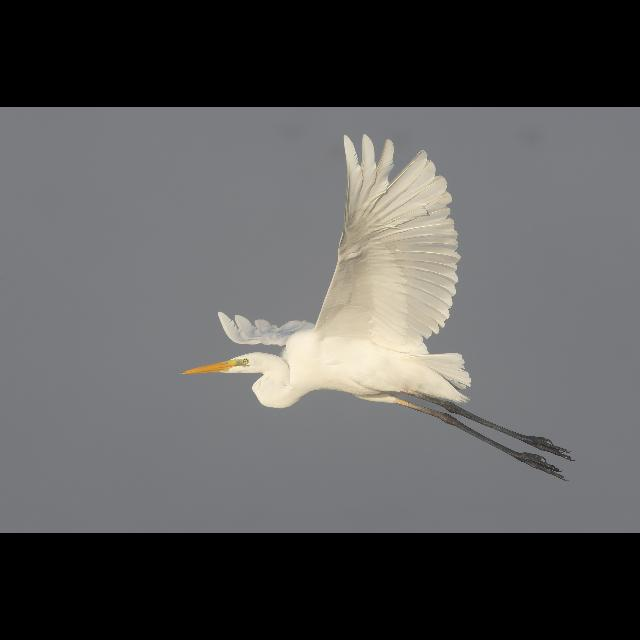egret: (186, 127, 590, 489)
